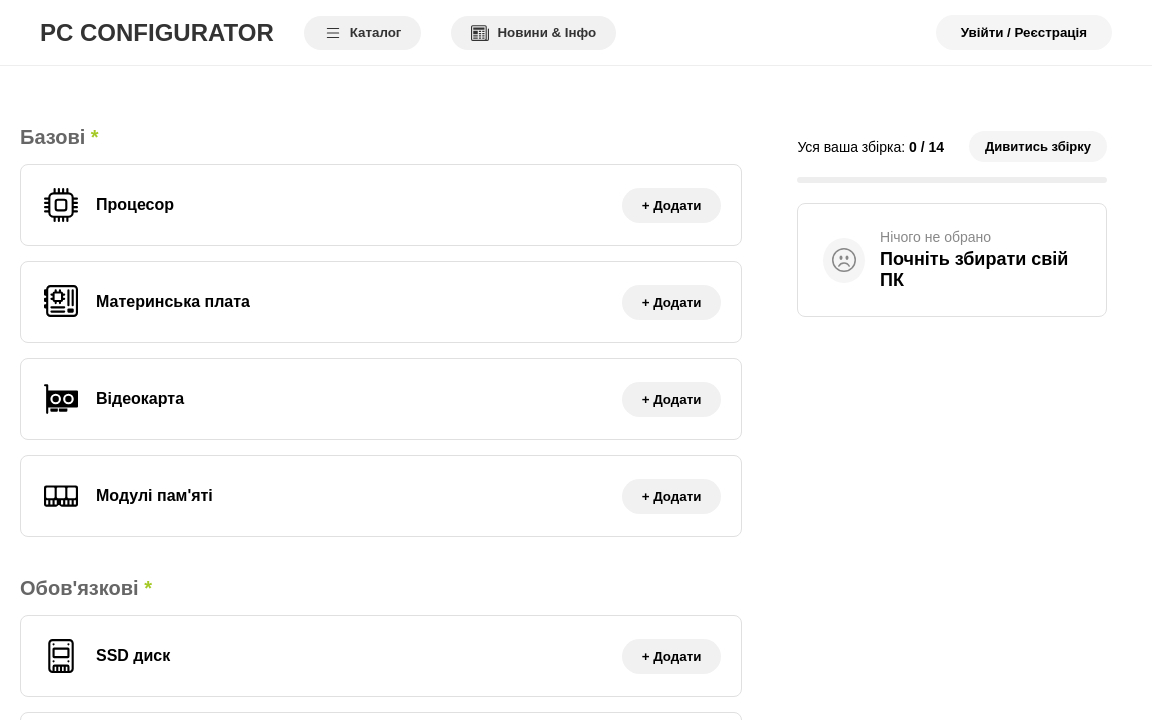
it: ConfiguratorPage › adds a component to the build and updates total price
Click the text "Процесор".
click(135, 205)  # box x1=96 y1=196 x2=174 y2=214
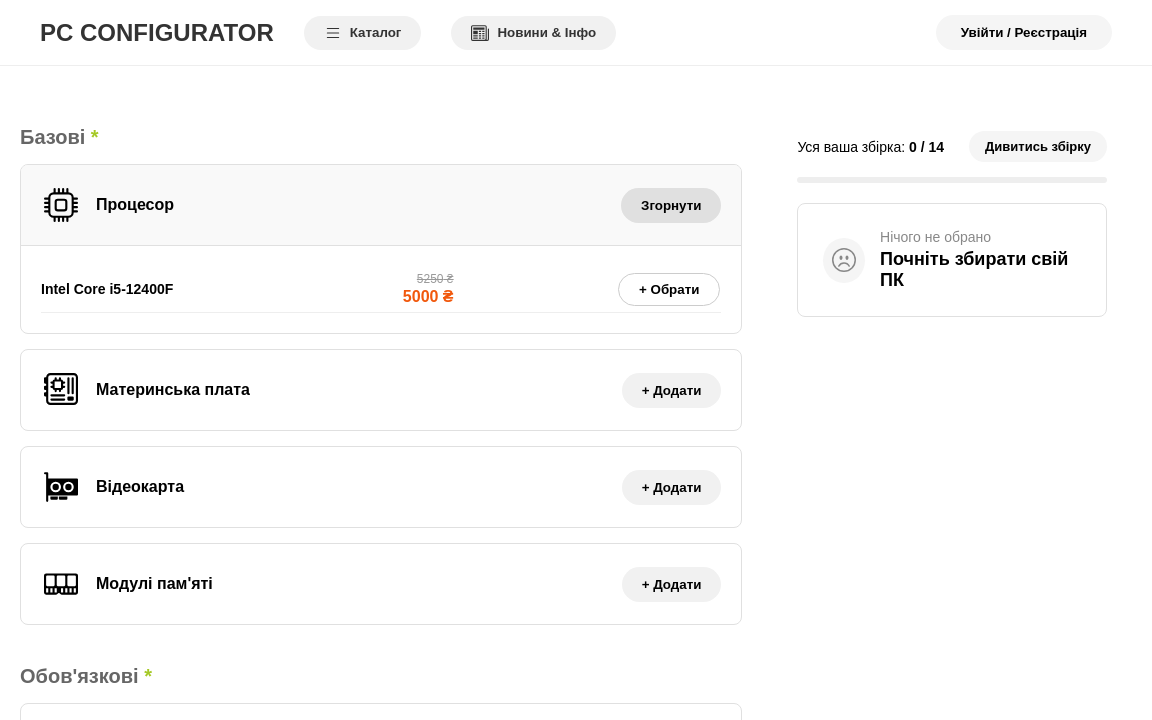
Click the button "+ Обрати".
click(669, 289)  # box x1=618 y1=272 x2=720 y2=306
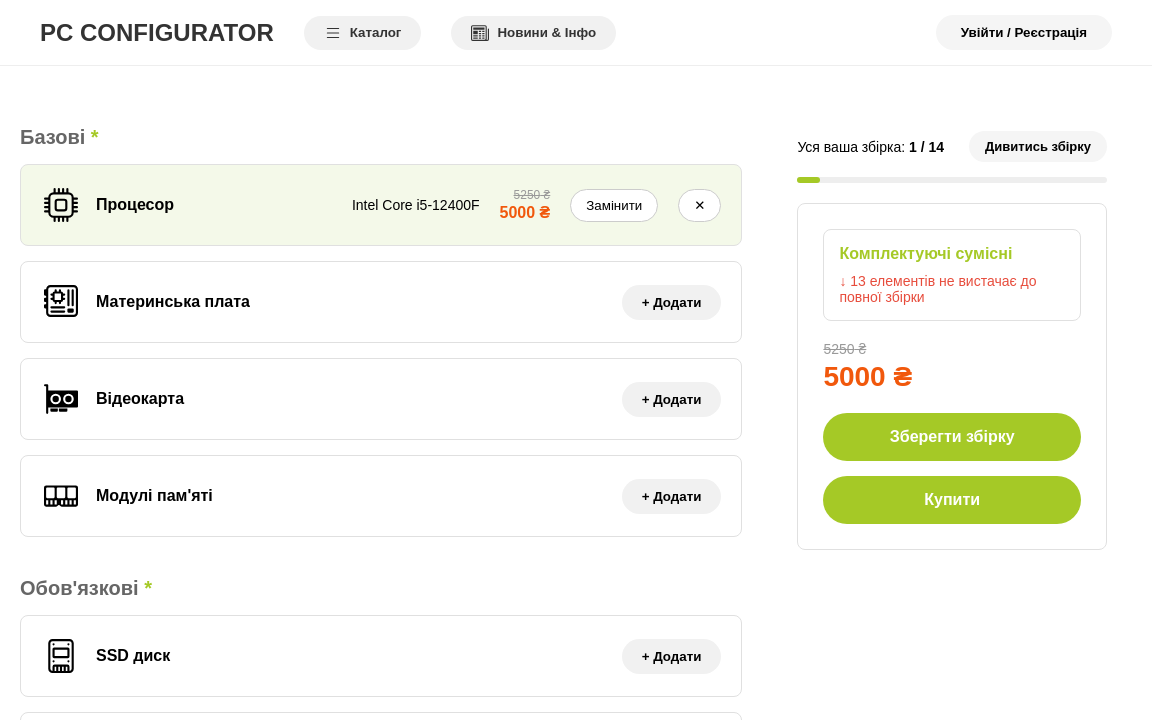
Expected: the text "5000 ₴" is shown, x1=500 y1=204 x2=550 y2=221
Expected: the button "✕" is shown, x1=678 y1=188 x2=721 y2=222
